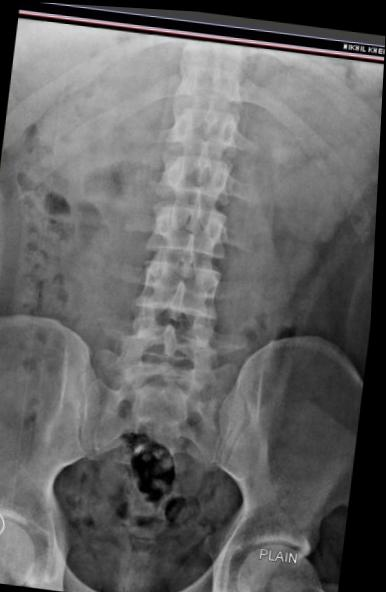bladder: (62, 499, 213, 591)
vertebrae: (164, 83, 243, 149)
